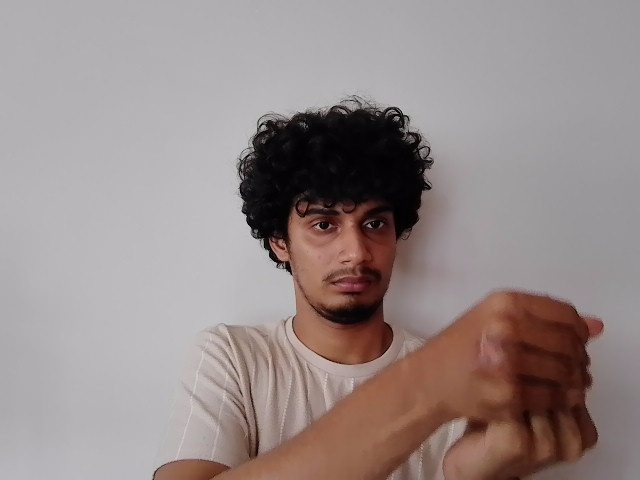with: (429, 281, 607, 472)
